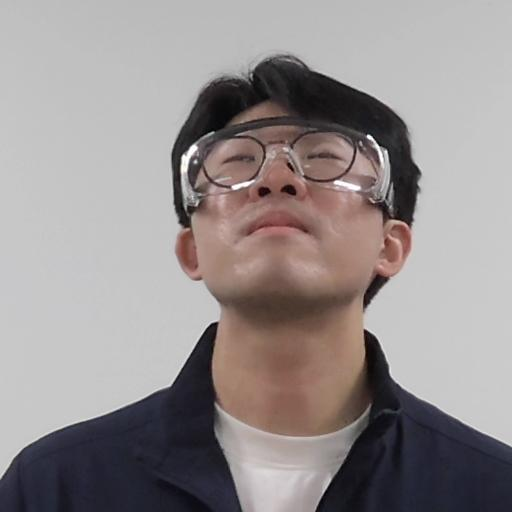glasses: (162, 59, 420, 322)
